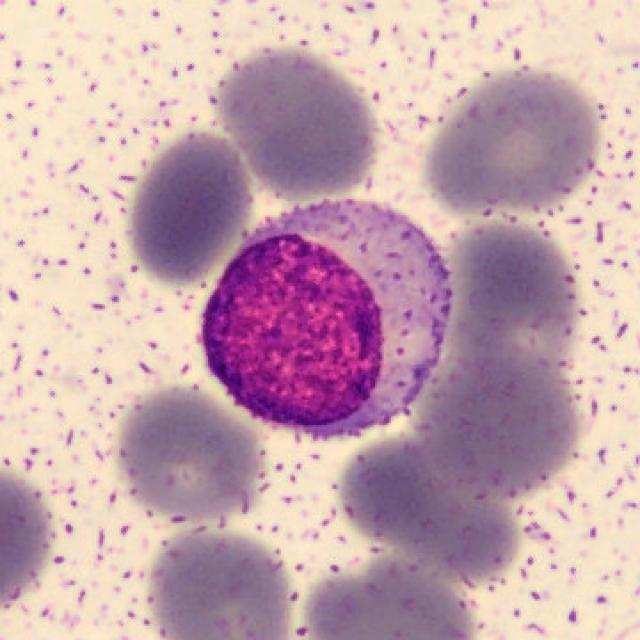Mielocito: (197, 201, 453, 439)
